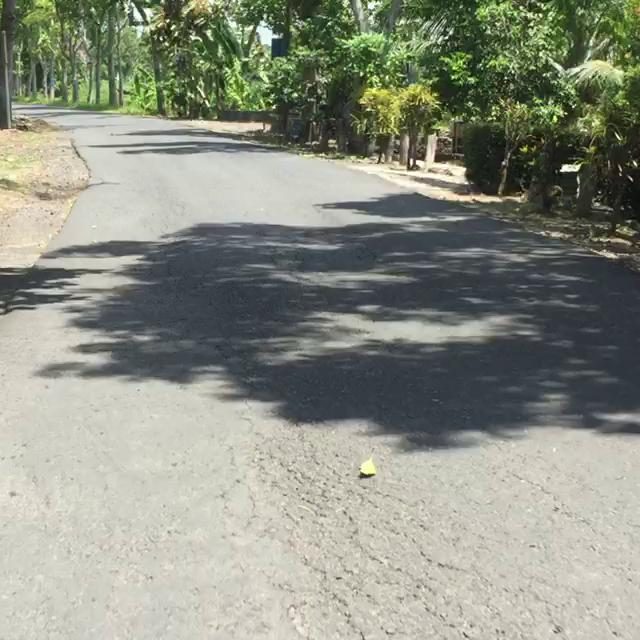retak_kulit_buaya: (228, 441, 435, 640)
